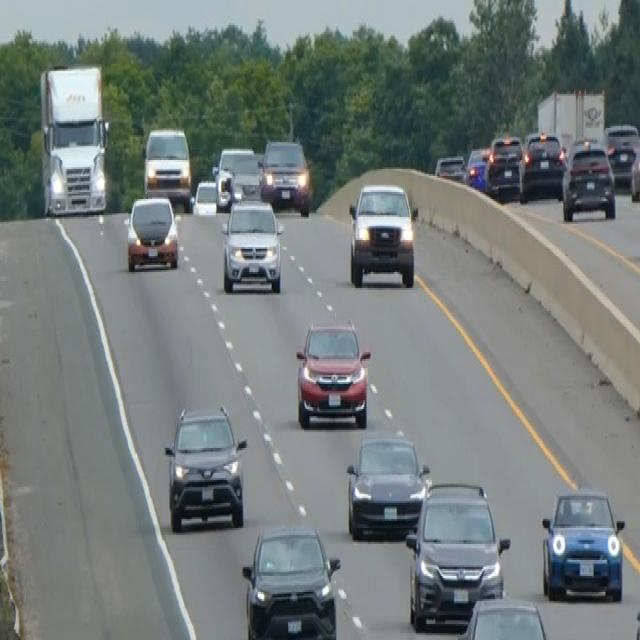car: (404, 478, 509, 631), (241, 521, 341, 638), (163, 402, 247, 532), (540, 487, 625, 603), (345, 434, 431, 540), (294, 316, 371, 428), (347, 180, 416, 288), (220, 195, 284, 294), (561, 137, 616, 222), (124, 194, 179, 272), (455, 594, 550, 638), (141, 125, 192, 206), (259, 135, 310, 215), (519, 130, 565, 201), (212, 144, 259, 206), (484, 133, 524, 201), (605, 137, 637, 187), (465, 144, 490, 190), (434, 151, 466, 183), (191, 178, 218, 215), (604, 121, 639, 147), (629, 144, 639, 203)
lorry: (37, 60, 110, 217)
